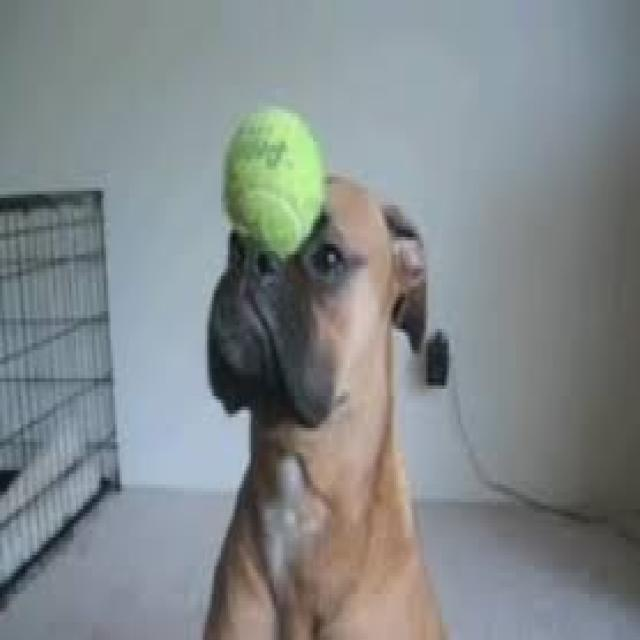tennis-ball: (222, 107, 324, 255)
